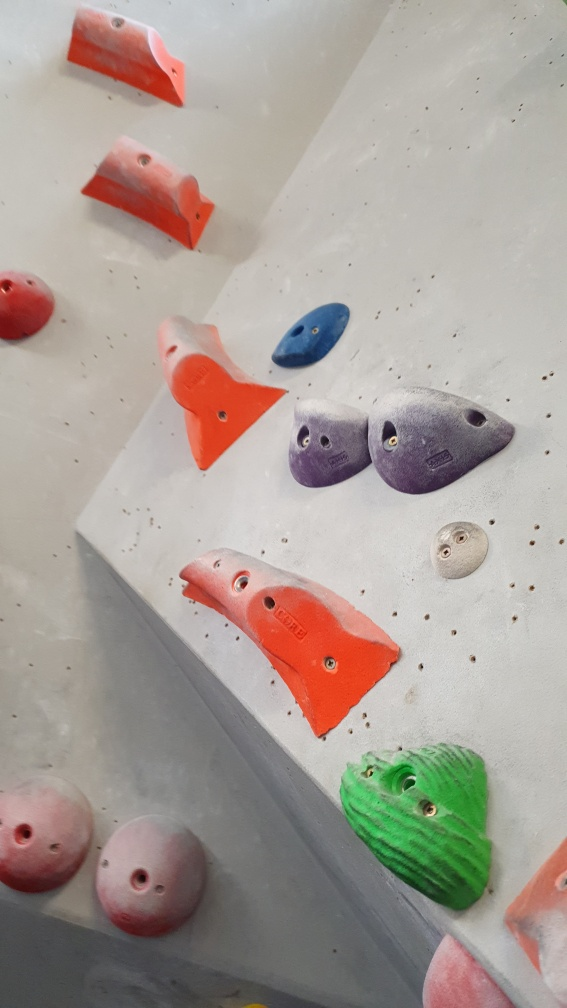Crimp: (272, 297, 356, 372)
Jug: (342, 746, 496, 910), (367, 384, 518, 495), (288, 393, 378, 489)
Pinch: (177, 545, 400, 738), (155, 310, 290, 474), (83, 135, 217, 254), (63, 1, 193, 110)
Sloper: (94, 807, 213, 942), (1, 777, 100, 893), (1, 267, 56, 341)
